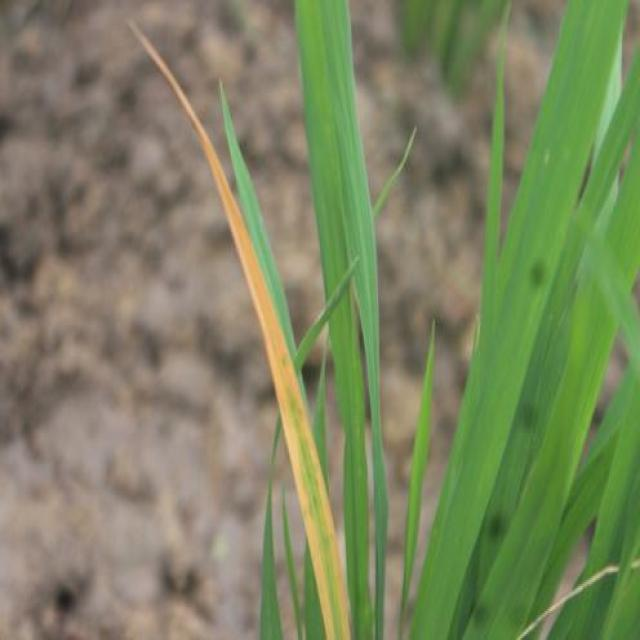Tungro: (133, 21, 348, 640)
